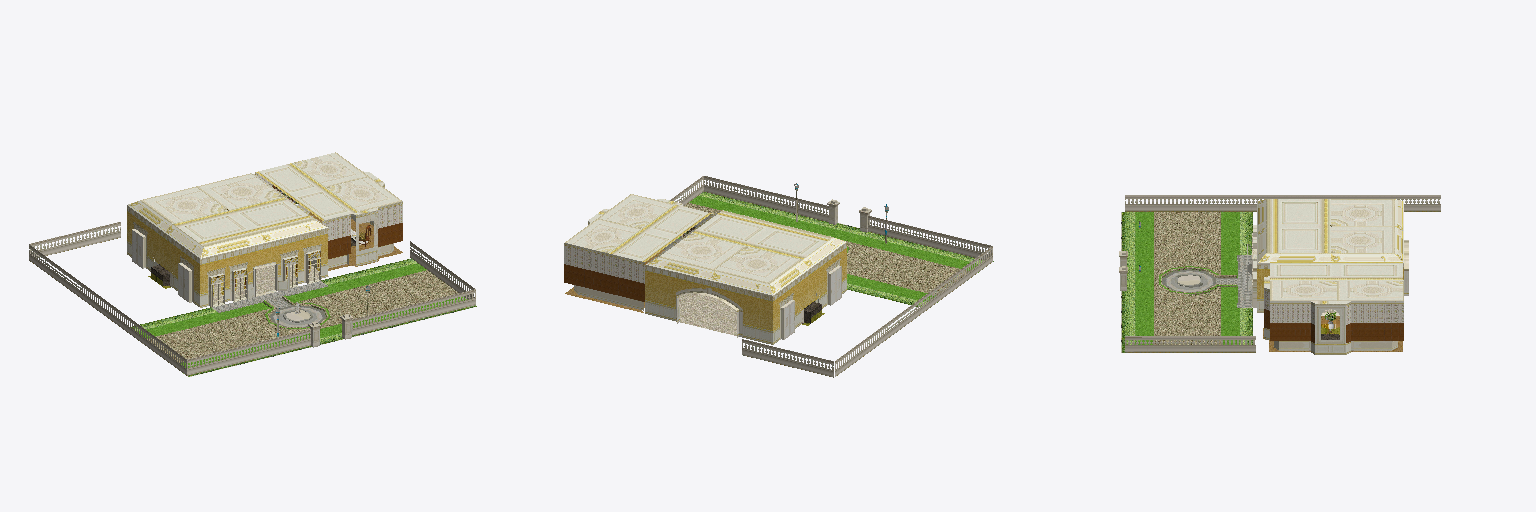
3 views of the same model, side by side, from view 1: azimuth 30°, elevation 25°; view 2: azimuth 150°, elevation 25°; view 3: azimuth 270°, elevation 25° (orthographic).
Visible parts, largest first — view 1: vsn_mesh_16_polySurface1055_mesh_16_polySurface1055, vsn_mesh_14_F2_Room_Luxury_G5_mesh_14_F2_Room_Luxury_G5, vsn_mesh_26_polySurface873_mesh_26_polySurface873, vsn_mesh_10_F2_Room_Luxury191_mesh_10_F2_Room_Luxury191, vsn_mesh_1_F2_Room_Luxury126_mesh_1_F2_Room_Luxury126, vsn_mesh_8_F2_Room_Luxury178_mesh_8_F2_Room_Luxury178, vsn_mesh_18_polySurface1056_mesh_18_polySurface1056, vsn_mesh_26_polySurface873_mesh_26_polySurface873.003, vsn_mesh_4_F2_Room_Luxury148_mesh_4_F2_Room_Luxury148, vsn_mesh_26_polySurface873_mesh_26_polySurface873.002, vsn_mesh_26_polySurface873_mesh_26_polySurface873.001, vsn_mesh_5_F2_Room_Luxury152_mesh_5_F2_Room_Luxury152; view 2: vsn_mesh_16_polySurface1055_mesh_16_polySurface1055, vsn_mesh_14_F2_Room_Luxury_G5_mesh_14_F2_Room_Luxury_G5, vsn_mesh_26_polySurface873_mesh_26_polySurface873, vsn_mesh_10_F2_Room_Luxury191_mesh_10_F2_Room_Luxury191, vsn_mesh_8_F2_Room_Luxury178_mesh_8_F2_Room_Luxury178, vsn_mesh_4_F2_Room_Luxury148_mesh_4_F2_Room_Luxury148, vsn_mesh_26_polySurface873_mesh_26_polySurface873.003, vsn_mesh_18_polySurface1056_mesh_18_polySurface1056, vsn_mesh_1_F2_Room_Luxury126_mesh_1_F2_Room_Luxury126, vsn_mesh_26_polySurface873_mesh_26_polySurface873.002, vsn_mesh_26_polySurface873_mesh_26_polySurface873.001; view 3: vsn_mesh_16_polySurface1055_mesh_16_polySurface1055, vsn_mesh_14_F2_Room_Luxury_G5_mesh_14_F2_Room_Luxury_G5, vsn_mesh_8_F2_Room_Luxury178_mesh_8_F2_Room_Luxury178, vsn_mesh_26_polySurface873_mesh_26_polySurface873, vsn_mesh_26_polySurface873_mesh_26_polySurface873.002, vsn_mesh_26_polySurface873_mesh_26_polySurface873.001, vsn_mesh_1_F2_Room_Luxury126_mesh_1_F2_Room_Luxury126.
Part boxes in pixels (bbox=[...]): vsn_mesh_16_polySurface1055_mesh_16_polySurface1055: bbox=[127, 152, 402, 307]; vsn_mesh_14_F2_Room_Luxury_G5_mesh_14_F2_Room_Luxury_G5: bbox=[131, 258, 476, 376]; vsn_mesh_26_polySurface873_mesh_26_polySurface873: bbox=[133, 241, 475, 375]; vsn_mesh_10_F2_Room_Luxury191_mesh_10_F2_Room_Luxury191: bbox=[127, 211, 327, 293]; vsn_mesh_1_F2_Room_Luxury126_mesh_1_F2_Room_Luxury126: bbox=[132, 183, 348, 306]; vsn_mesh_8_F2_Room_Luxury178_mesh_8_F2_Room_Luxury178: bbox=[256, 174, 402, 258]; vsn_mesh_18_polySurface1056_mesh_18_polySurface1056: bbox=[132, 230, 289, 301]; vsn_mesh_26_polySurface873_mesh_26_polySurface873.003: bbox=[30, 222, 120, 257]; vsn_mesh_4_F2_Room_Luxury148_mesh_4_F2_Room_Luxury148: bbox=[213, 261, 328, 304]; vsn_mesh_26_polySurface873_mesh_26_polySurface873.002: bbox=[29, 244, 81, 298]; vsn_mesh_26_polySurface873_mesh_26_polySurface873.001: bbox=[82, 283, 133, 335]; vsn_mesh_5_F2_Room_Luxury152_mesh_5_F2_Room_Luxury152: bbox=[309, 212, 402, 270]; vsn_mesh_16_polySurface1055_mesh_16_polySurface1055: bbox=[564, 194, 846, 344]; vsn_mesh_14_F2_Room_Luxury_G5_mesh_14_F2_Room_Luxury_G5: bbox=[678, 183, 993, 306]; vsn_mesh_26_polySurface873_mesh_26_polySurface873: bbox=[670, 176, 992, 299]; vsn_mesh_10_F2_Room_Luxury191_mesh_10_F2_Room_Luxury191: bbox=[645, 248, 846, 330]; vsn_mesh_8_F2_Room_Luxury178_mesh_8_F2_Room_Luxury178: bbox=[564, 216, 710, 301]; vsn_mesh_4_F2_Room_Luxury148_mesh_4_F2_Room_Luxury148: bbox=[679, 294, 736, 335]; vsn_mesh_26_polySurface873_mesh_26_polySurface873.003: bbox=[742, 339, 833, 377]; vsn_mesh_18_polySurface1056_mesh_18_polySurface1056: bbox=[784, 266, 841, 339]; vsn_mesh_1_F2_Room_Luxury126_mesh_1_F2_Room_Luxury126: bbox=[617, 225, 840, 339]; vsn_mesh_26_polySurface873_mesh_26_polySurface873.002: bbox=[835, 323, 887, 376]; vsn_mesh_26_polySurface873_mesh_26_polySurface873.001: bbox=[888, 285, 939, 337]; vsn_mesh_16_polySurface1055_mesh_16_polySurface1055: bbox=[1248, 199, 1403, 354]; vsn_mesh_14_F2_Room_Luxury_G5_mesh_14_F2_Room_Luxury_G5: bbox=[1119, 212, 1252, 352]; vsn_mesh_8_F2_Room_Luxury178_mesh_8_F2_Room_Luxury178: bbox=[1264, 290, 1403, 342]; vsn_mesh_26_polySurface873_mesh_26_polySurface873: bbox=[1122, 195, 1255, 352]; vsn_mesh_26_polySurface873_mesh_26_polySurface873.002: bbox=[1334, 195, 1440, 211]; vsn_mesh_26_polySurface873_mesh_26_polySurface873.001: bbox=[1229, 195, 1335, 211]; vsn_mesh_1_F2_Room_Luxury126_mesh_1_F2_Room_Luxury126: bbox=[1252, 225, 1408, 350].
Bounding box in the file's own units: 42.42 × 7.96 × 40.2.
Materials: 15 (12 with a texture image).